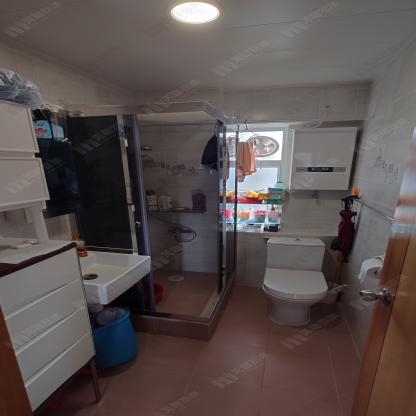Exhaust Fan: (244, 135, 280, 158)
Toilet: (263, 236, 329, 326)
Toilet Sink: (79, 250, 151, 305)
Water Cubicle: (65, 102, 242, 339)
Water Heater: (289, 127, 358, 190)
